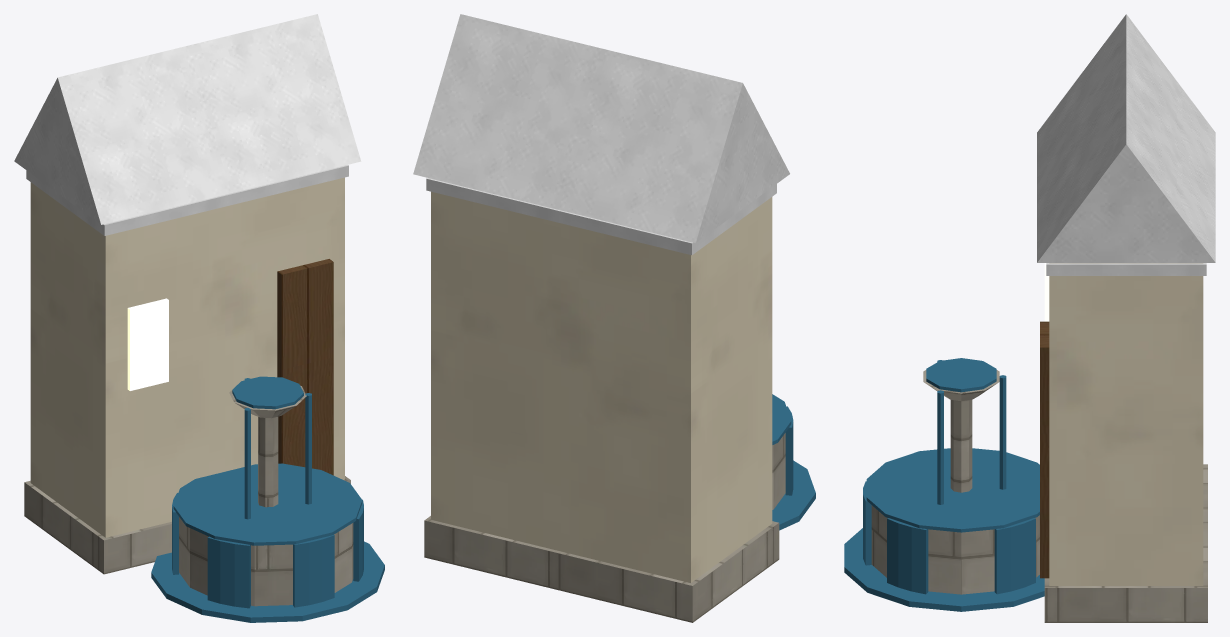
The model's file is protocol.fluid.glb.
The picture shows the model from 3 angles, left to right: view 1: azimuth 30°, elevation 25°; view 2: azimuth 150°, elevation 25°; view 3: azimuth 270°, elevation 25°; orthographic projection. The views are drawn at different scales.
Visible parts, largest first — view 1: building.protocol.fluid; view 2: building.protocol.fluid; view 3: building.protocol.fluid.
Boxes of the visible parts, left/top/right/bottom form: building.protocol.fluid: left=14, top=14, right=384, bottom=622; building.protocol.fluid: left=413, top=14, right=815, bottom=622; building.protocol.fluid: left=844, top=14, right=1215, bottom=622.
Bounding box in the file's own units: 2 × 3.45 × 2.41.
Materials: 7 (5 with a texture image).
